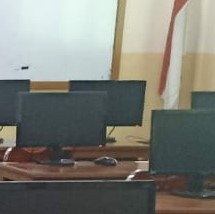monitor: (15, 91, 107, 148), (148, 109, 215, 176), (69, 80, 147, 127), (0, 80, 30, 126), (190, 91, 215, 110)
